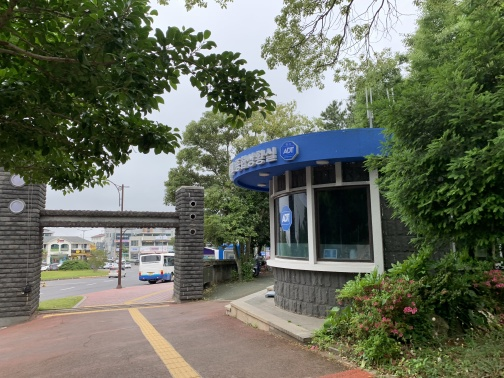Security Office: (230, 125, 396, 322)
